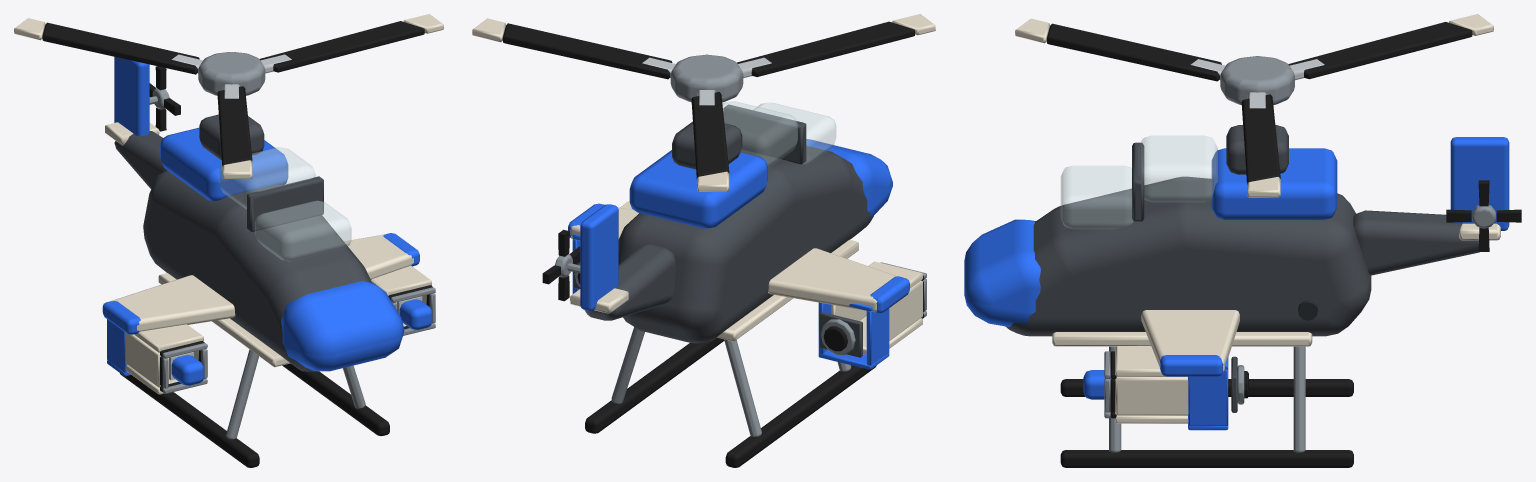
The model's file is gunship.glb.
3 views of the same model, side by side, from view 1: azimuth 30°, elevation 25°; view 2: azimuth 150°, elevation 25°; view 3: azimuth 270°, elevation 25° (orthographic). The views are drawn at different scales.
Parts seen in each view (by area): view 1: airframe__M_SmokePlastic, airframe__M_Team, spinner__M_Licorice, airframe__M_FrostGlass, airframe__M_CreamPlastic, gs_pod_0__M_CreamPlastic, gs_tail__M_Team, spinner__M_SpringSteel, air_skid_r__M_Licorice, air_skid_l__M_Licorice, spinner__M_CreamPlastic, gs_pod_1__M_CreamPlastic (+10 smaller); view 2: airframe__M_SmokePlastic, airframe__M_Team, spinner__M_Licorice, airframe__M_CreamPlastic, airframe__M_FrostGlass, gs_tail__M_Team, air_skid_r__M_Licorice, air_skid_l__M_Licorice, spinner__M_SpringSteel, gs_pod_0__M_CreamPlastic, gs_pod_0__M_Team, spinner__M_CreamPlastic (+8 smaller); view 3: airframe__M_SmokePlastic, airframe__M_Team, spinner__M_Licorice, airframe__M_FrostGlass, airframe__M_CreamPlastic, air_skid_l__M_Licorice, gs_pod_1__M_CreamPlastic, gs_tail__M_Team, spinner__M_SpringSteel, gs_pod_1__M_Team, air_skid_r__M_Licorice, air_skid_l__M_SpringSteel (+5 smaller).
Part boxes in pixels (x1=…): airframe__M_SmokePlastic: x1=114, y1=114, x2=371, y2=371; airframe__M_Team: x1=102, y1=127, x2=419, y2=371; spinner__M_Licorice: x1=42, y1=21, x2=424, y2=166; airframe__M_FrostGlass: x1=219, y1=147, x2=351, y2=260; airframe__M_CreamPlastic: x1=110, y1=234, x2=413, y2=367; gs_pod_0__M_CreamPlastic: x1=125, y1=324, x2=203, y2=394; gs_tail__M_Team: x1=114, y1=56, x2=149, y2=136; spinner__M_SpringSteel: x1=198, y1=52, x2=265, y2=95; air_skid_r__M_Licorice: x1=120, y1=373, x2=259, y2=467; air_skid_l__M_Licorice: x1=282, y1=363, x2=389, y2=435; spinner__M_CreamPlastic: x1=14, y1=14, x2=443, y2=178; gs_pod_1__M_CreamPlastic: x1=371, y1=265, x2=431, y2=326; airframe__M_SmokePlastic: x1=584, y1=104, x2=873, y2=343; airframe__M_Team: x1=568, y1=139, x2=909, y2=313; spinner__M_Licorice: x1=502, y1=21, x2=914, y2=179; airframe__M_CreamPlastic: x1=570, y1=207, x2=896, y2=341; airframe__M_FrostGlass: x1=722, y1=101, x2=835, y2=168; gs_tail__M_Team: x1=580, y1=204, x2=618, y2=310; air_skid_r__M_Licorice: x1=725, y1=365, x2=876, y2=467; air_skid_l__M_Licorice: x1=585, y1=337, x2=724, y2=433; spinner__M_SpringSteel: x1=670, y1=54, x2=743, y2=102; gs_pod_0__M_CreamPlastic: x1=831, y1=261, x2=922, y2=354; gs_pod_0__M_Team: x1=818, y1=302, x2=889, y2=369; spinner__M_CreamPlastic: x1=472, y1=14, x2=935, y2=191; airframe__M_SmokePlastic: x1=1005, y1=125, x2=1479, y2=336; airframe__M_Team: x1=964, y1=148, x2=1337, y2=376; spinner__M_Licorice: x1=1046, y1=22, x2=1472, y2=184; airframe__M_FrostGlass: x1=1061, y1=136, x2=1217, y2=228; airframe__M_CreamPlastic: x1=1052, y1=310, x2=1312, y2=372; air_skid_l__M_Licorice: x1=1060, y1=450, x2=1353, y2=467; gs_pod_1__M_CreamPlastic: x1=1115, y1=346, x2=1188, y2=423; gs_tail__M_Team: x1=1450, y1=137, x2=1509, y2=230; spinner__M_SpringSteel: x1=1220, y1=56, x2=1294, y2=105; gs_pod_1__M_Team: x1=1188, y1=357, x2=1228, y2=430; air_skid_r__M_Licorice: x1=1060, y1=379, x2=1353, y2=396; air_skid_l__M_SpringSteel: x1=1109, y1=346, x2=1305, y2=452.
Bounding box in the file's own units: 1.09 × 0.955 × 1.33.
